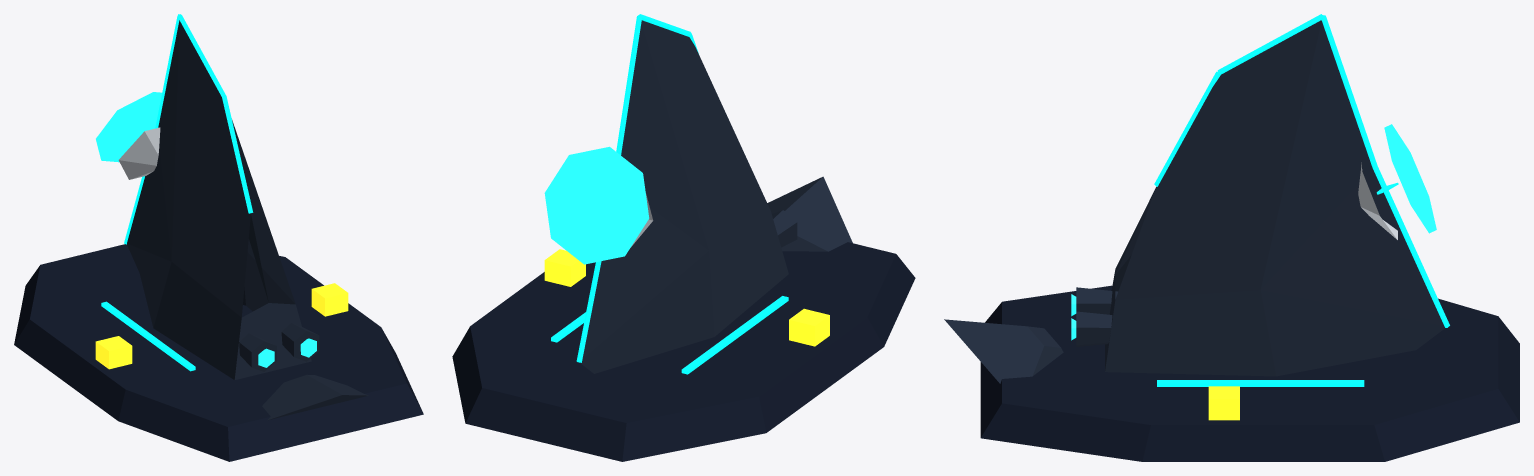
Rendered from camau_predator.glb.
The picture shows the model from 3 angles, left to right: view 1: azimuth 30°, elevation 25°; view 2: azimuth 150°, elevation 25°; view 3: azimuth 270°, elevation 25°; orthographic projection. The views are drawn at different scales.
Parts seen in each view (by area): view 1: CaMau_Launch_Pad, CaMau_Warship_Sail_Hull, CaMau_Blast_Deflector, CaMau_Radar_Holo_ScanningSweep, CaMau_PhasedArray_RadarDish, CaMau_DockClamp_1, CaMau_DockClamp_-1, CaMau_Launch_Rail_-1, CaMau_IonEngine_Housing_-1, CaMau_IonEngine_Housing_1, CaMau_Sail_LED_Seam_3, CaMau_Sail_LED_Seam_2; view 2: CaMau_Launch_Pad, CaMau_Warship_Sail_Hull, CaMau_Radar_Holo_ScanningSweep, CaMau_Blast_Deflector, CaMau_DockClamp_-1, CaMau_DockClamp_1, CaMau_Launch_Rail_-1, CaMau_Sail_LED_Seam_1, CaMau_IonEngine_Housing_-1, CaMau_Sail_LED_Seam_0; view 3: CaMau_Warship_Sail_Hull, CaMau_Launch_Pad, CaMau_Blast_Deflector, CaMau_Radar_Holo_ScanningSweep, CaMau_Launch_Rail_1, CaMau_IonEngine_Housing_1, CaMau_DockClamp_1, CaMau_Sail_LED_Seam_0, CaMau_Sail_LED_Seam_1, CaMau_IonEngine_Housing_-1, CaMau_PhasedArray_RadarDish, CaMau_Sail_LED_Seam_2 (+1 smaller).
Part boxes in pixels (bbox=[...]): CaMau_Launch_Pad: bbox=[14, 244, 423, 461]; CaMau_Warship_Sail_Hull: bbox=[127, 20, 311, 380]; CaMau_Blast_Deflector: bbox=[262, 374, 368, 420]; CaMau_Radar_Holo_ScanningSweep: bbox=[96, 92, 161, 162]; CaMau_PhasedArray_RadarDish: bbox=[118, 127, 160, 179]; CaMau_DockClamp_1: bbox=[311, 283, 348, 316]; CaMau_DockClamp_-1: bbox=[95, 336, 132, 369]; CaMau_Launch_Rail_-1: bbox=[101, 301, 195, 371]; CaMau_IonEngine_Housing_-1: bbox=[239, 333, 276, 371]; CaMau_IonEngine_Housing_1: bbox=[281, 323, 319, 361]; CaMau_Sail_LED_Seam_3: bbox=[222, 96, 253, 213]; CaMau_Sail_LED_Seam_2: bbox=[177, 14, 226, 96]; CaMau_Launch_Pad: bbox=[452, 242, 915, 461]; CaMau_Warship_Sail_Hull: bbox=[580, 20, 788, 373]; CaMau_Radar_Holo_ScanningSweep: bbox=[544, 146, 649, 264]; CaMau_Blast_Deflector: bbox=[767, 176, 852, 251]; CaMau_DockClamp_-1: bbox=[789, 308, 829, 346]; CaMau_DockClamp_1: bbox=[544, 249, 585, 286]; CaMau_Launch_Rail_-1: bbox=[681, 296, 788, 374]; CaMau_Sail_LED_Seam_1: bbox=[616, 16, 641, 155]; CaMau_IonEngine_Housing_-1: bbox=[772, 210, 797, 247]; CaMau_Sail_LED_Seam_0: bbox=[576, 261, 601, 362]; CaMau_Warship_Sail_Hull: bbox=[1105, 20, 1444, 376]; CaMau_Launch_Pad: bbox=[980, 285, 1519, 461]; CaMau_Blast_Deflector: bbox=[944, 319, 1063, 383]; CaMau_Radar_Holo_ScanningSweep: bbox=[1384, 124, 1436, 233]; CaMau_Launch_Rail_1: bbox=[1157, 380, 1364, 386]; CaMau_IonEngine_Housing_1: bbox=[1076, 311, 1112, 346]; CaMau_DockClamp_1: bbox=[1208, 386, 1239, 420]; CaMau_Sail_LED_Seam_0: bbox=[1372, 166, 1449, 327]; CaMau_Sail_LED_Seam_1: bbox=[1321, 15, 1377, 167]; CaMau_IonEngine_Housing_-1: bbox=[1076, 287, 1117, 314]; CaMau_PhasedArray_RadarDish: bbox=[1358, 162, 1397, 239]; CaMau_Sail_LED_Seam_2: bbox=[1217, 14, 1322, 74].
Bounding box in the file's own units: 7.2 × 8.56 × 11.1.
